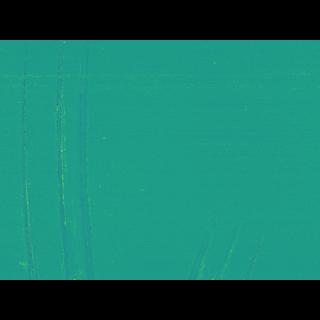Loch: (11, 68, 102, 250), (180, 188, 269, 250)
